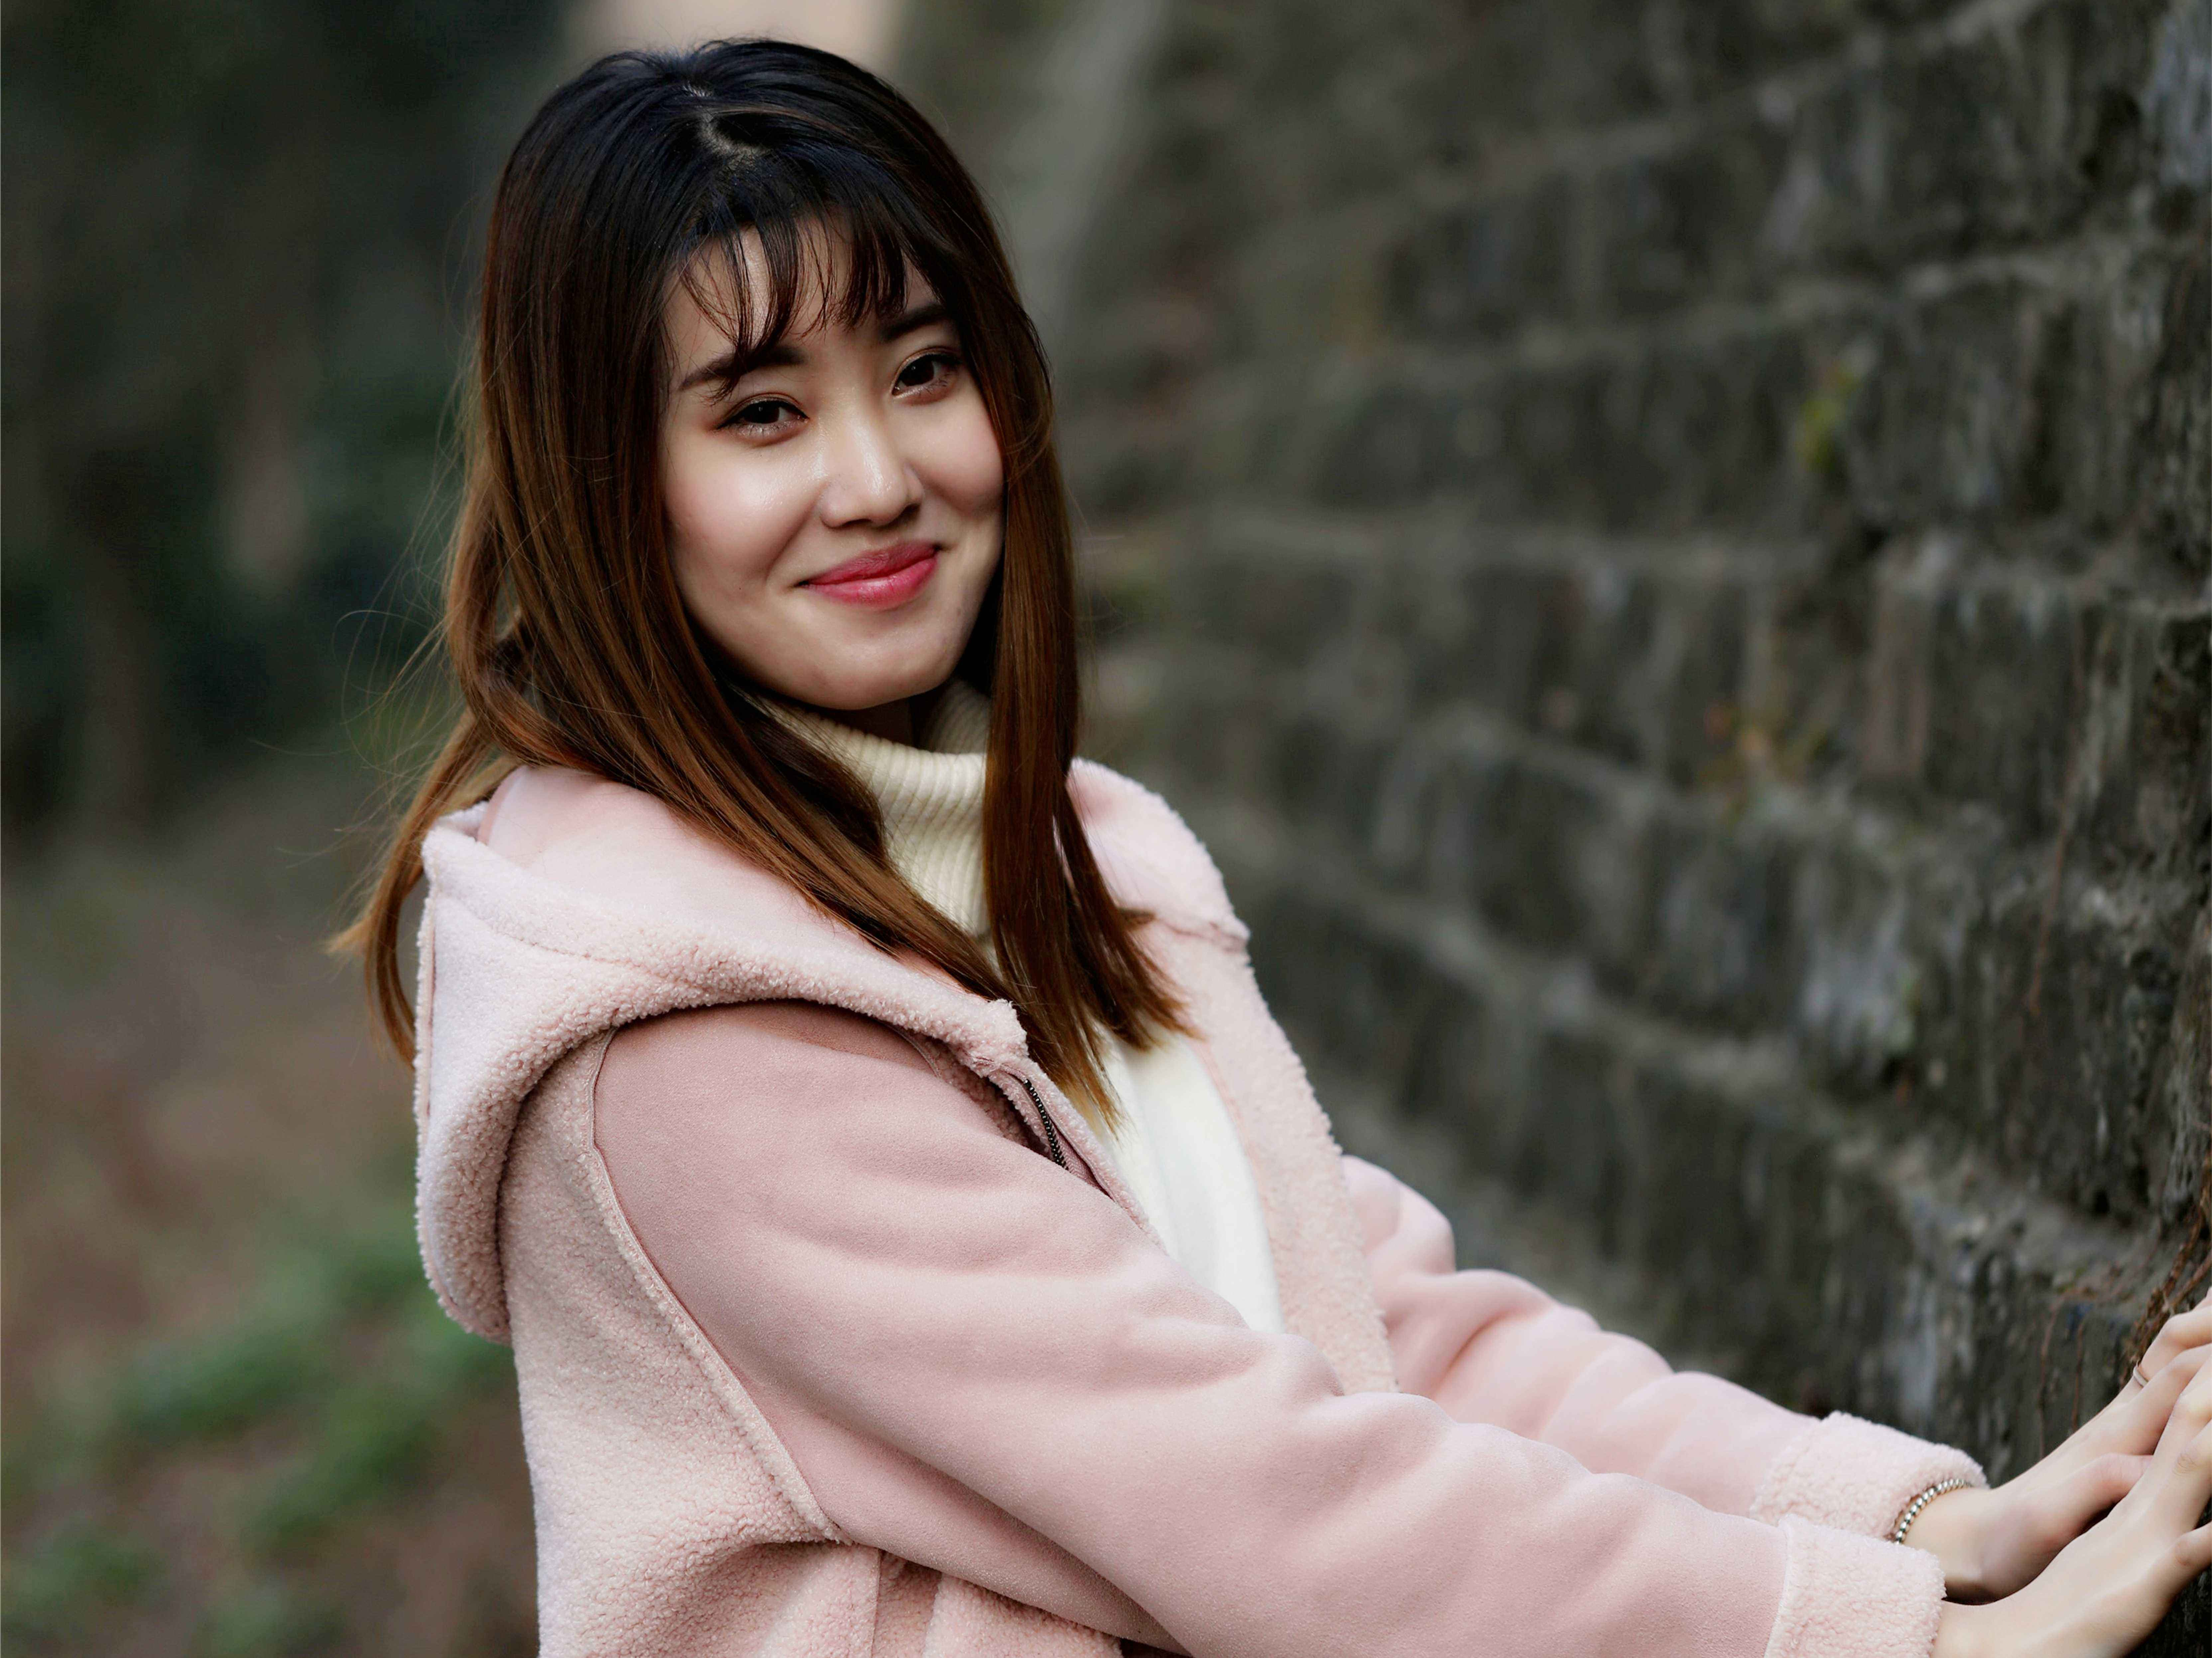person: (353, 94, 1511, 1635)
